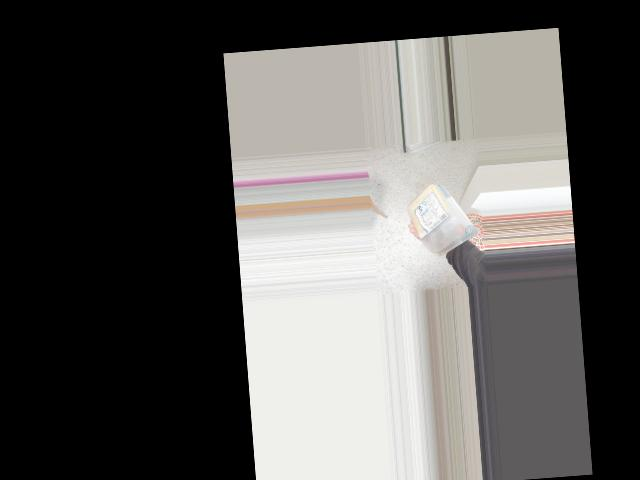cheese: (404, 176, 474, 257)
